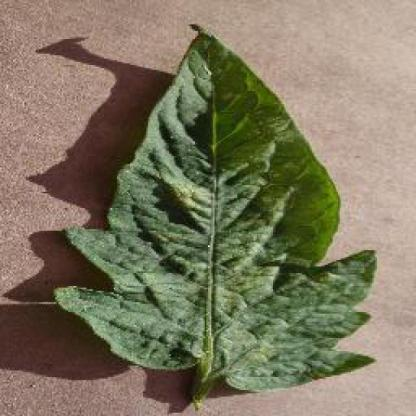Tomato_Spider_Mites: (57, 25, 377, 390)
